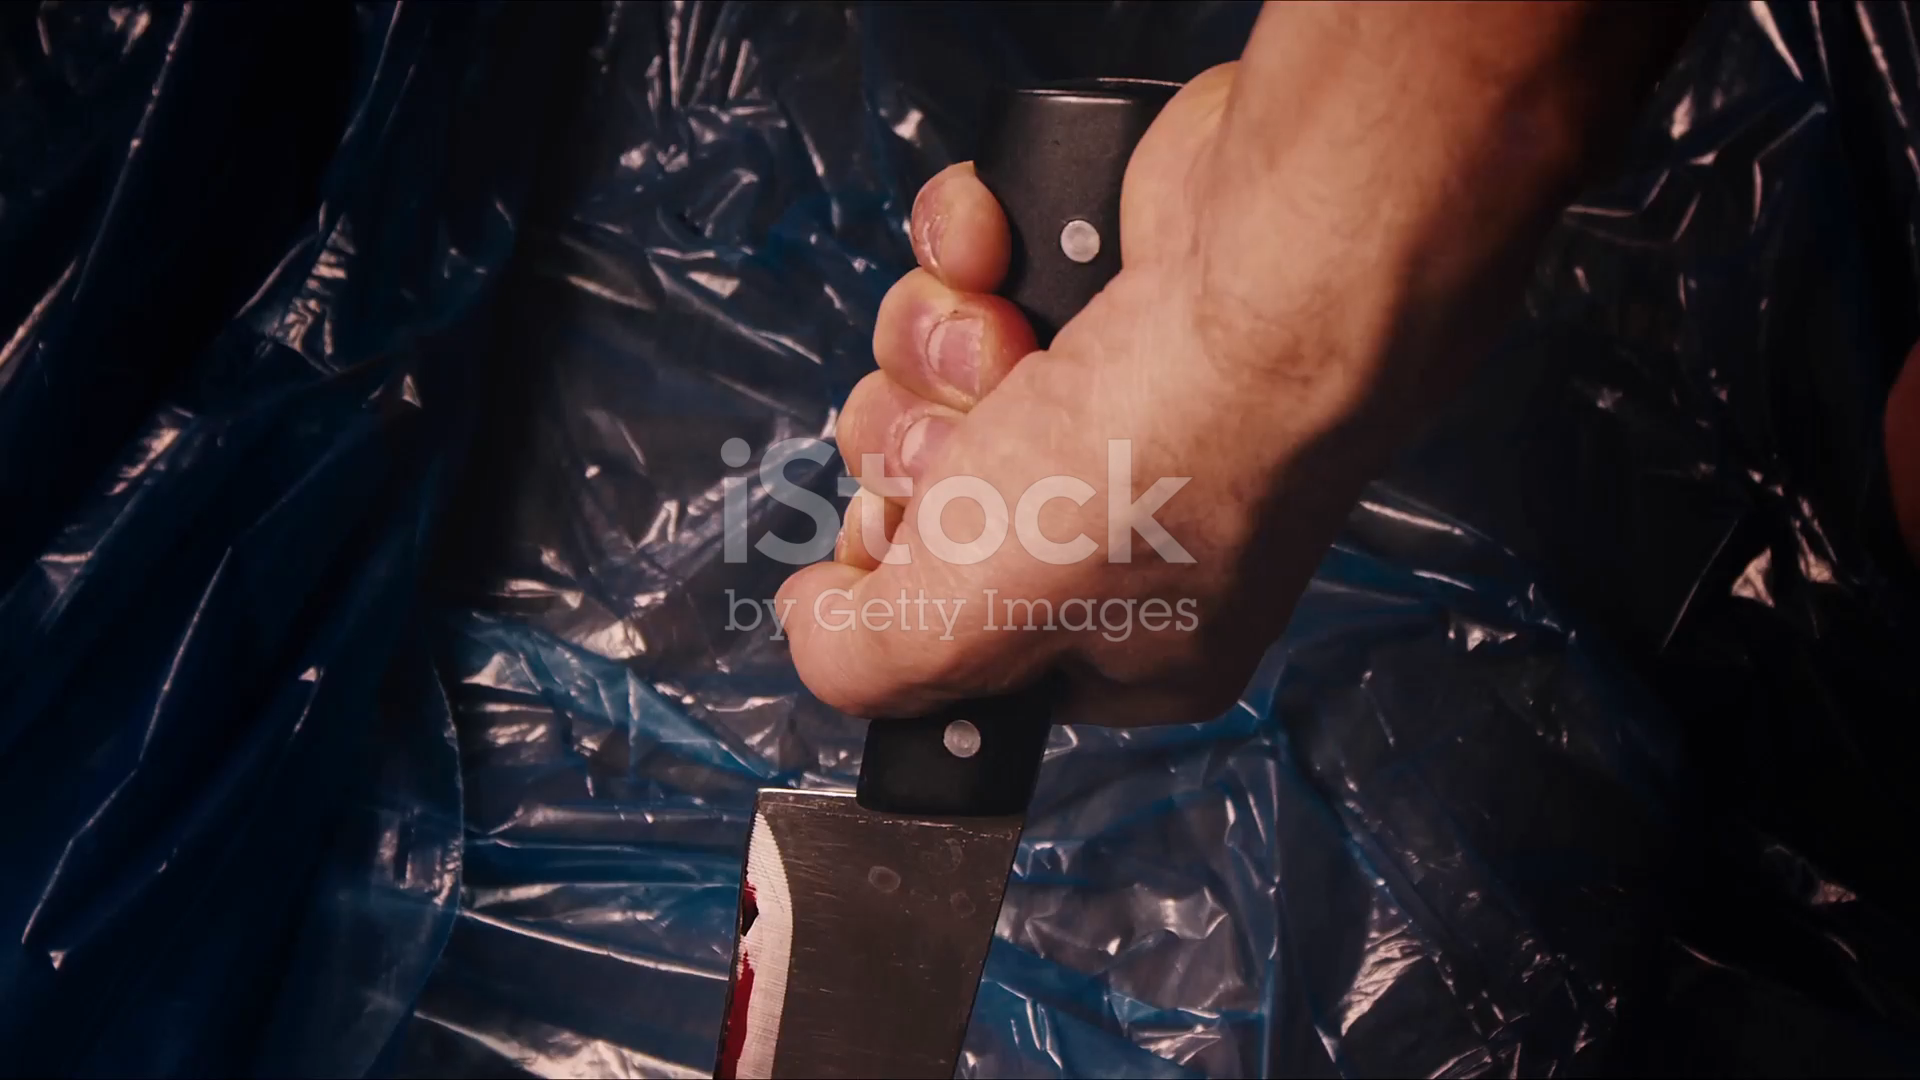cortante: (712, 789, 1026, 1080)
